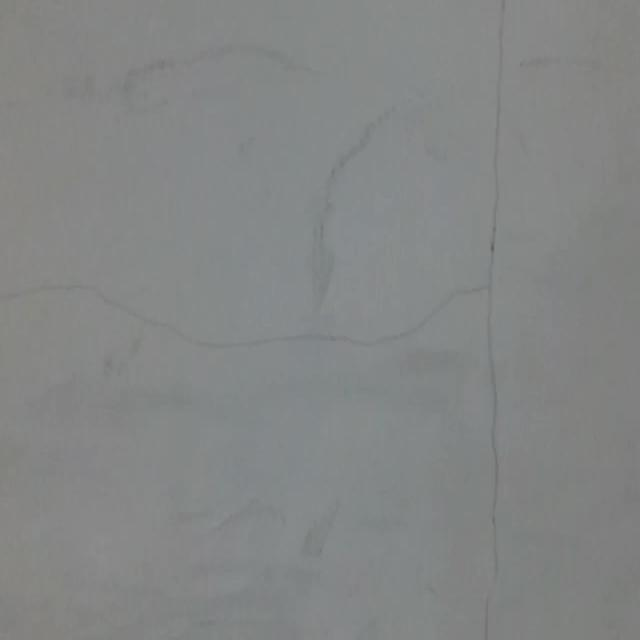Crack: (0, 0, 166, 640), (495, 2, 556, 640), (168, 279, 494, 365)
